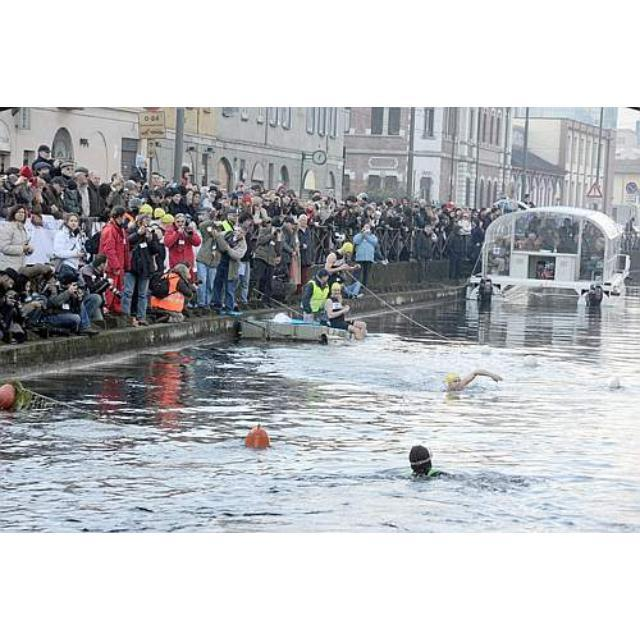human: (444, 368, 504, 391)
